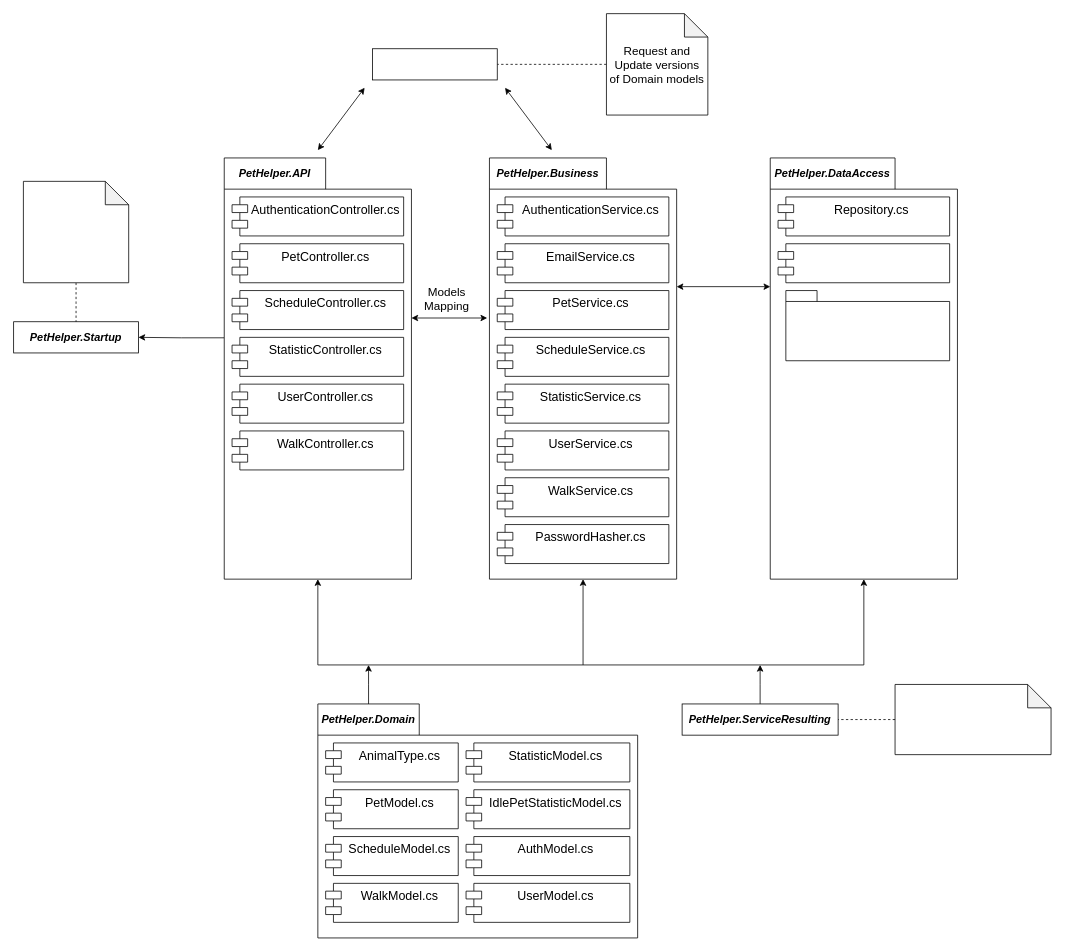
Some shapes in this 1065 by 952 pixel diagram are drawn without their labels. The shapes that lost their labels are listed below. From the top down, each one's box as (x1, y1, x2, y2) in pixels, then its label:
(372, 48, 497, 80): PetHelper.API.Models
(23, 181, 129, 283): Responsible for configuring system and registring dependencies
(777, 243, 950, 283): PetHelperDbContext.cs
(785, 290, 950, 361): DB Migrations
(894, 684, 1051, 755): Provides a service to handle and manage any server errors
